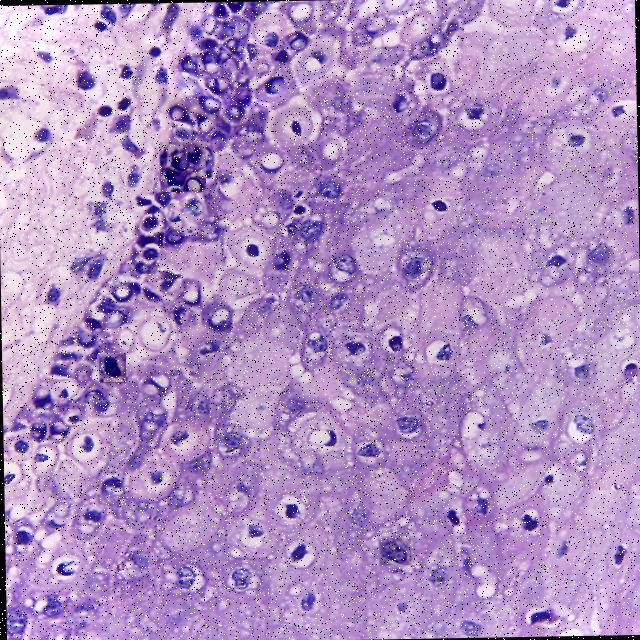Multiple Nucleol: (568, 411, 598, 439), (378, 538, 410, 564)
Nuclear Hyperchromatism: (159, 141, 204, 192), (98, 354, 125, 382)
